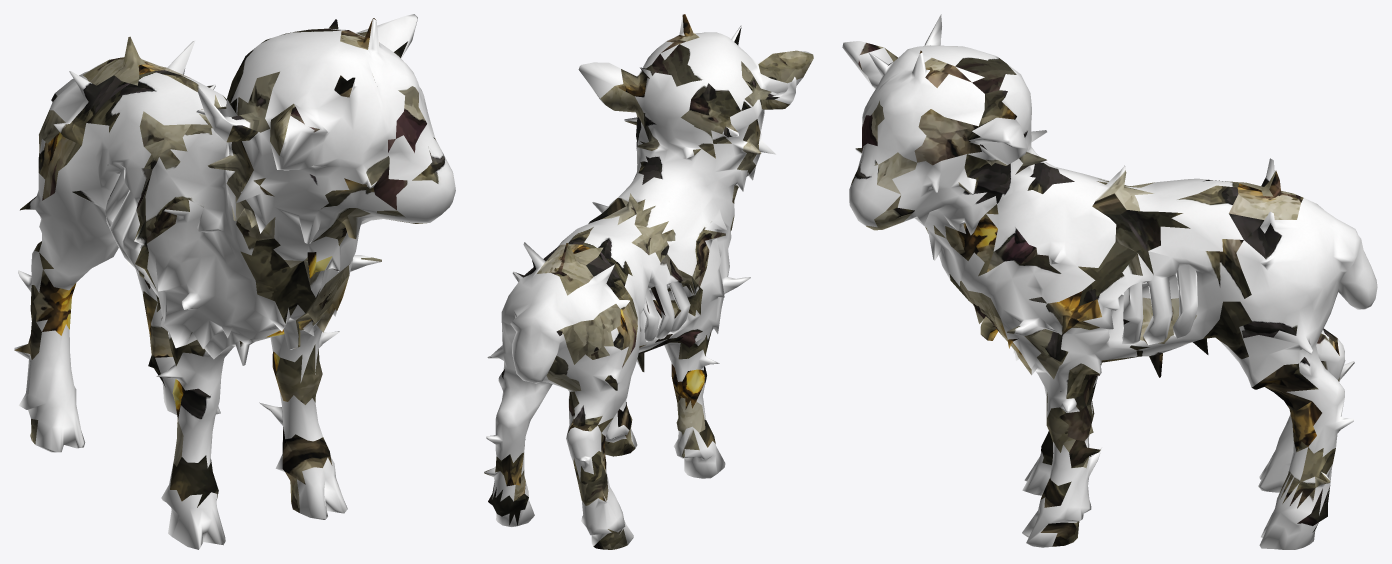
The model's file is blightlamb_gold_5k.fbx.
3 views of the same model, side by side, from view 1: azimuth 30°, elevation 25°; view 2: azimuth 150°, elevation 25°; view 3: azimuth 270°, elevation 25° (orthographic). The views are drawn at different scales.
Visible parts, largest first — view 1: blightlamb_gold_decimated; view 2: blightlamb_gold_decimated; view 3: blightlamb_gold_decimated.
Boxes of the visible parts, left/top/right/bottom form: blightlamb_gold_decimated: left=14, top=14, right=455, bottom=549; blightlamb_gold_decimated: left=484, top=14, right=813, bottom=549; blightlamb_gold_decimated: left=842, top=14, right=1377, bottom=549.
Bounding box in the file's own units: 0.937 × 1.9 × 1.91.
